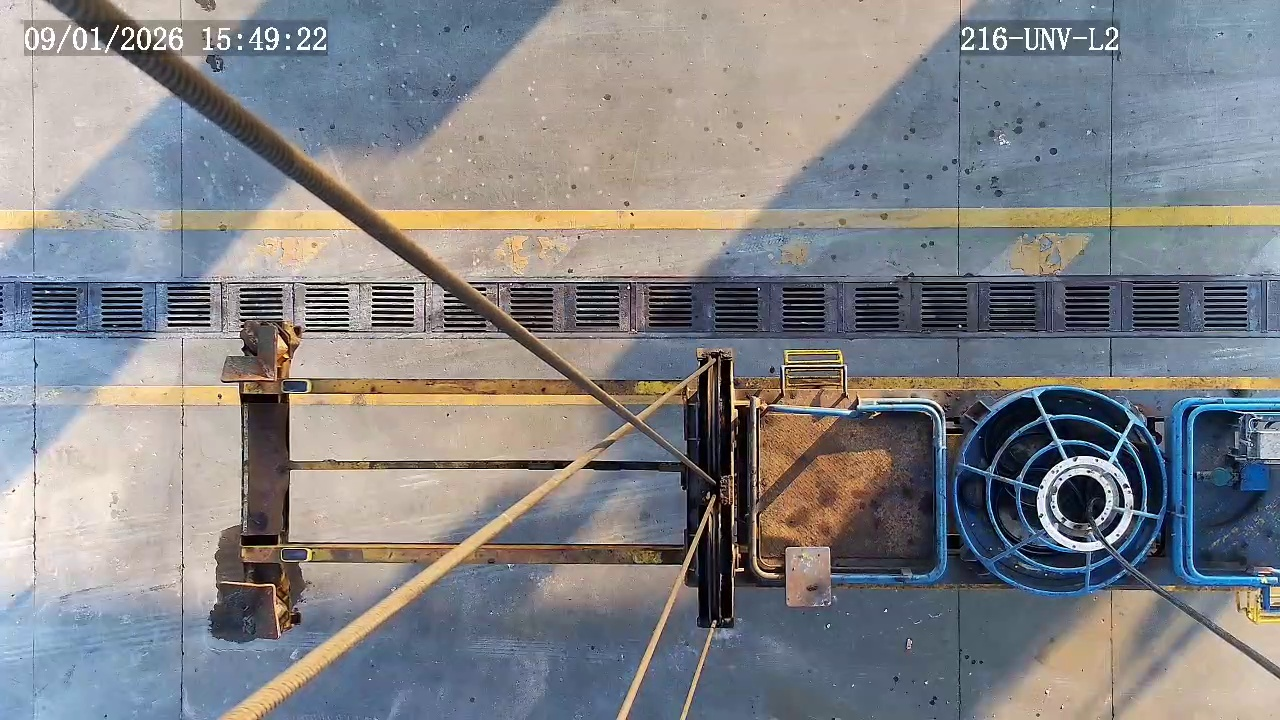left: (1034, 458, 1133, 550)
